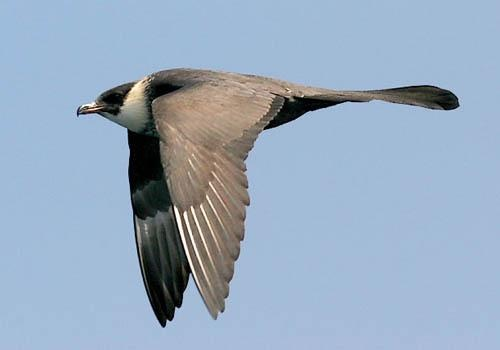bird: (74, 65, 462, 327)
